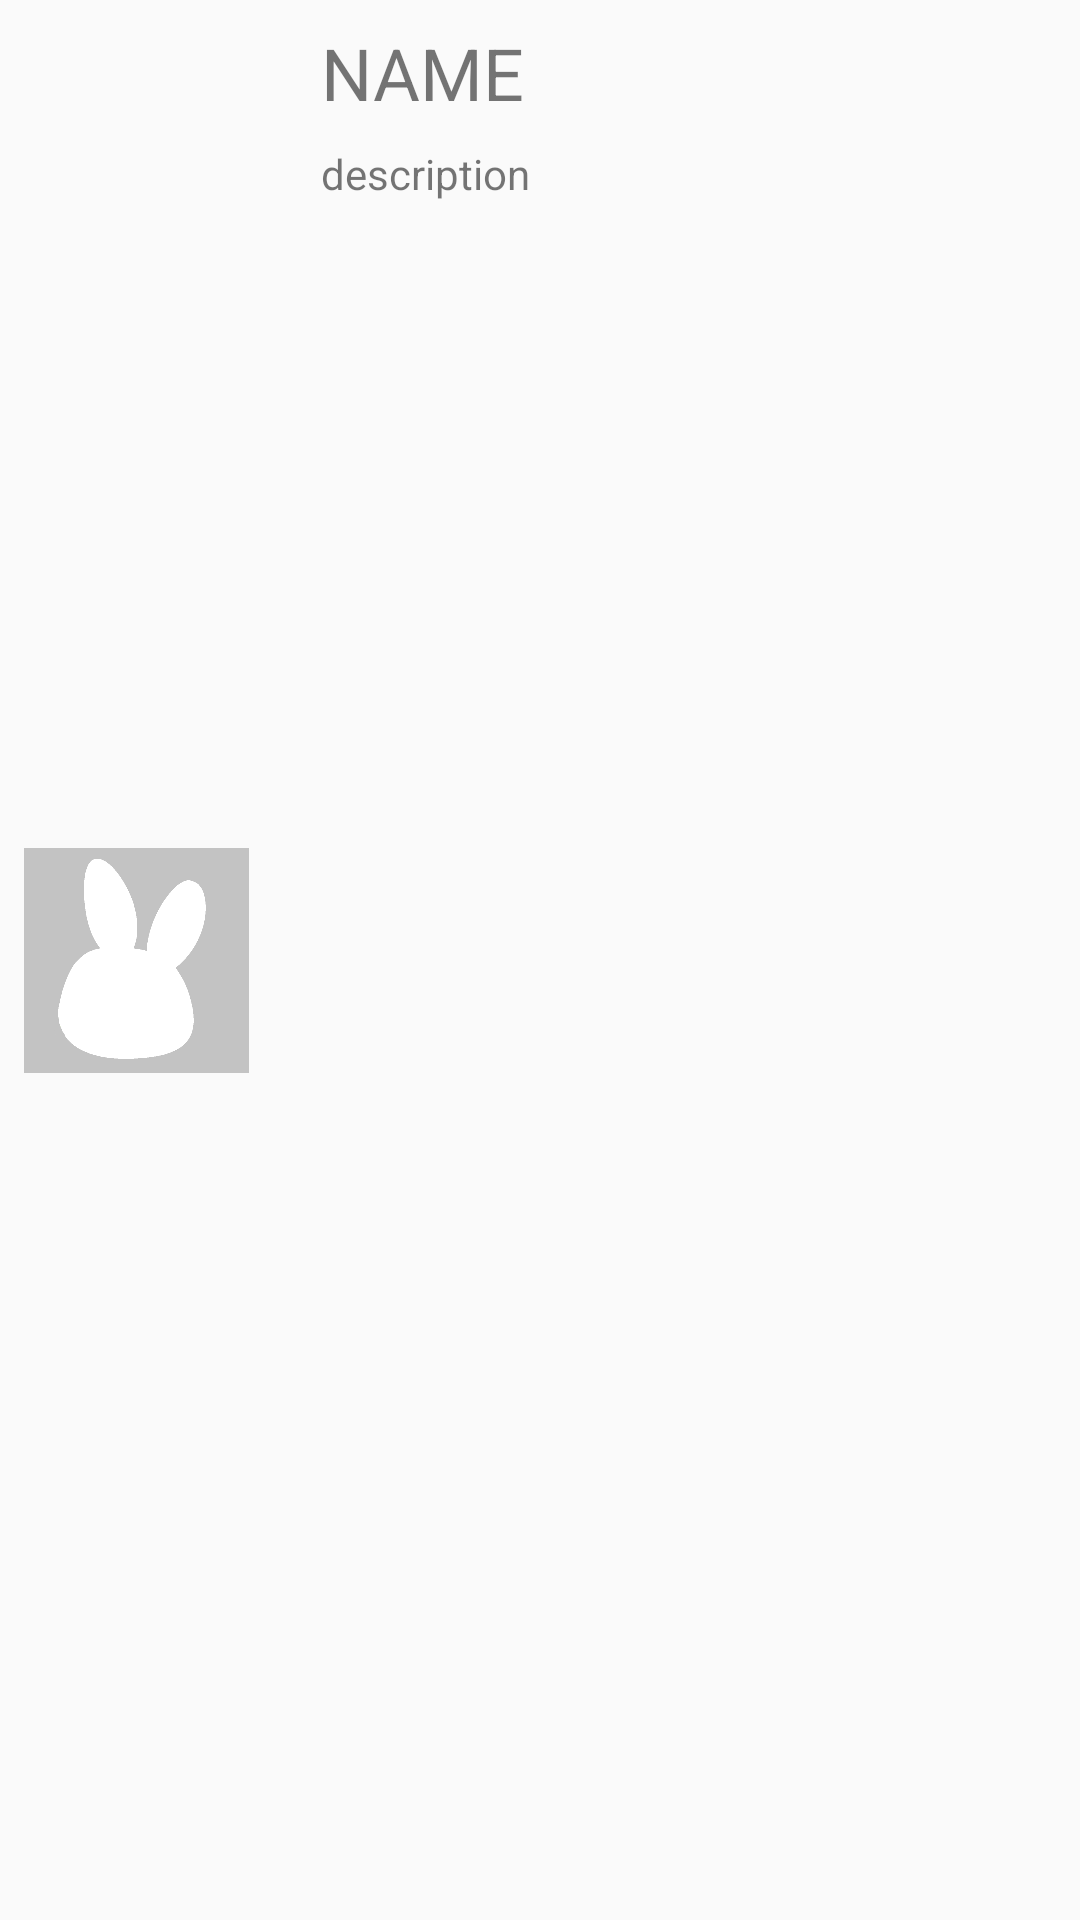

Named icons in this screenshot (1080 × 1920) and their bounding boxes, bbox=[x1, y1, x2, y2]:
greyrabbit: bbox=[24, 848, 249, 1073]
